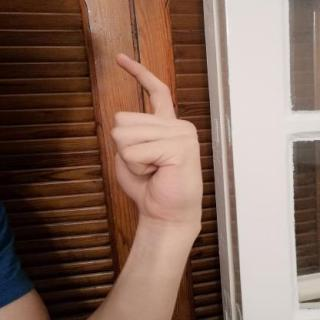RAA: (100, 48, 217, 228)
